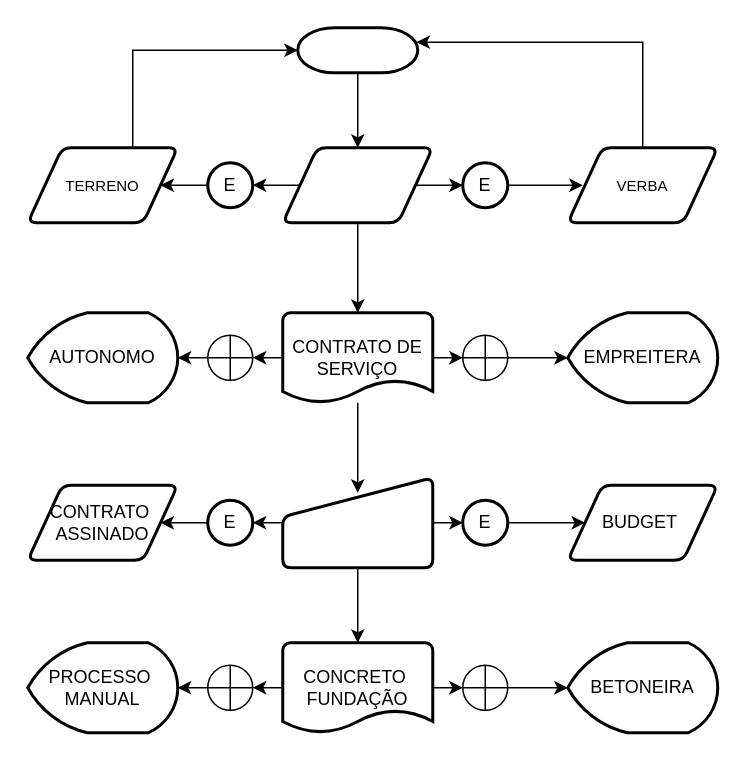
Some shapes in this 744 by 759 pixel diagram are drawn without their labels. Each missing label, with the centre of its shape:
COMPRA DOS MATERIAIS: point 357,522
INICIO: point 357,50
PROJETO APROVADO: point 357,185
